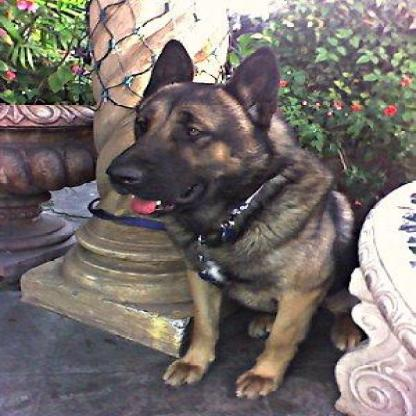German_shepherd: (104, 38, 366, 400)
